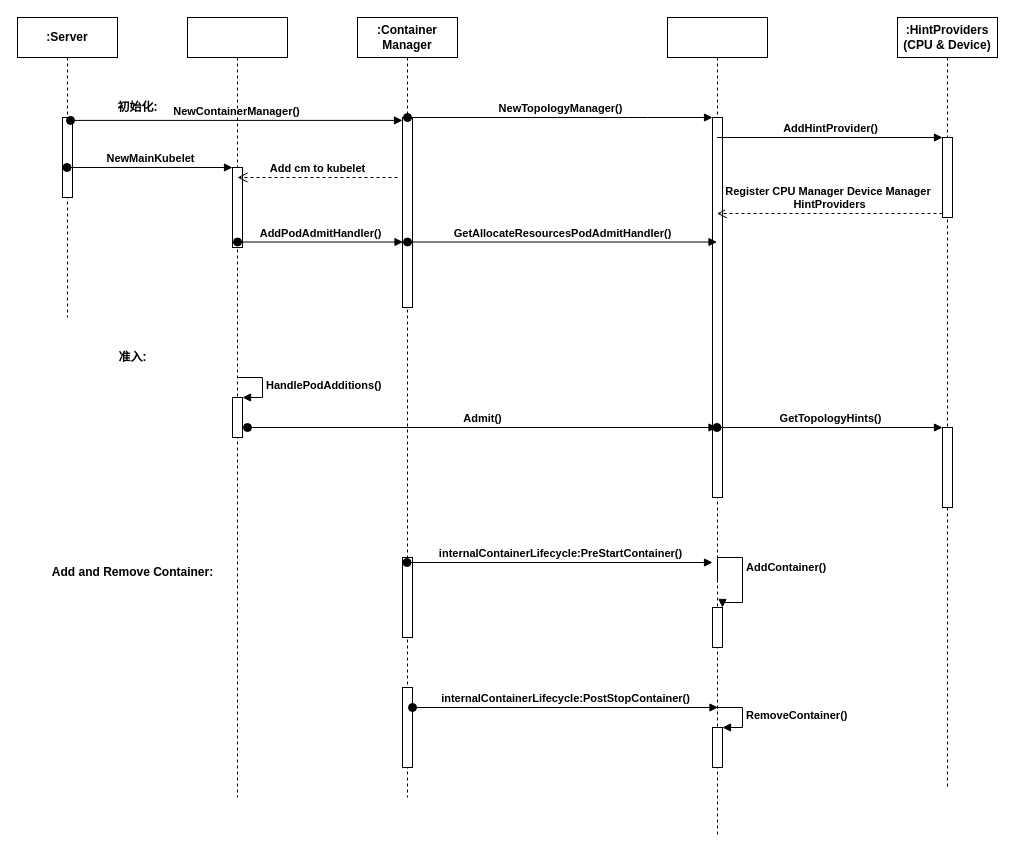
Some shapes in this 1015 by 855 pixel diagram are drawn without their labels. Here are the shapes that lost their labels. From the top down, the box of each, then its label:
(186, 16, 288, 798): :kubelet
(666, 16, 768, 838): :Topology Manager
